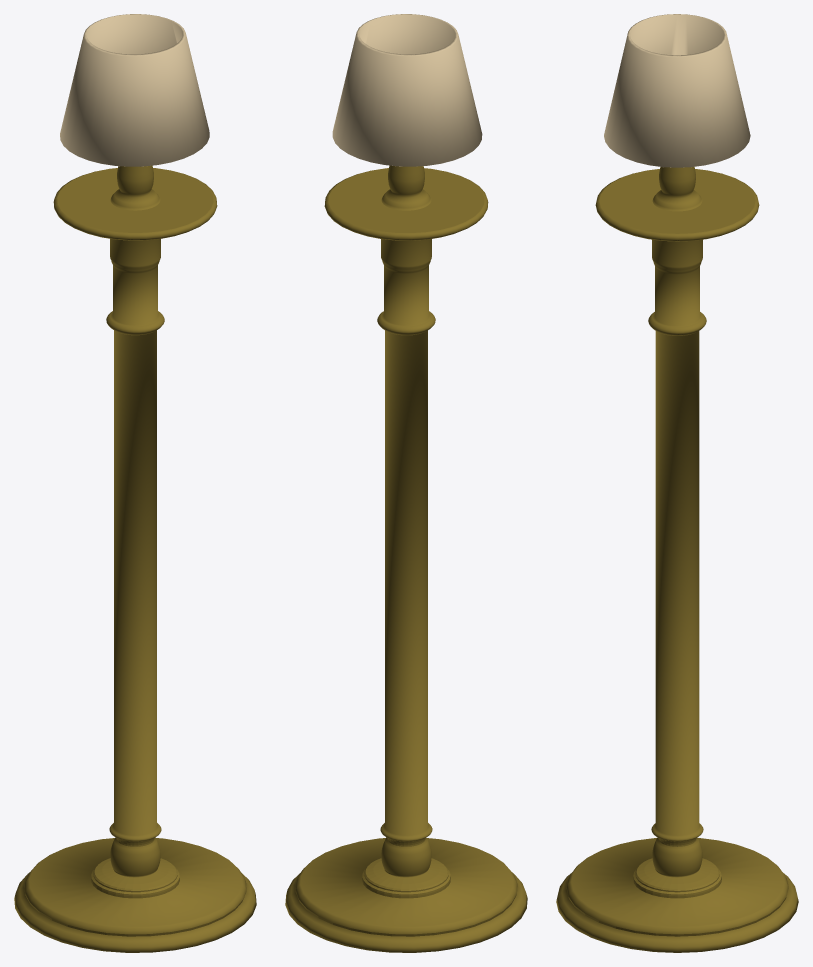
Rendered from lamp.fbx.
The picture shows the model from 3 angles, left to right: view 1: azimuth 30°, elevation 25°; view 2: azimuth 150°, elevation 25°; view 3: azimuth 270°, elevation 25°; orthographic projection.
Parts seen in each view (by area): view 1: Cylinder; view 2: Cylinder; view 3: Cylinder.
Part boxes in pixels (x1,y1,x2,y2): Cylinder: [14, 14, 256, 952]; Cylinder: [285, 14, 527, 952]; Cylinder: [556, 14, 798, 952].
Bounding box in the file's own units: 529 × 2086 × 529.
